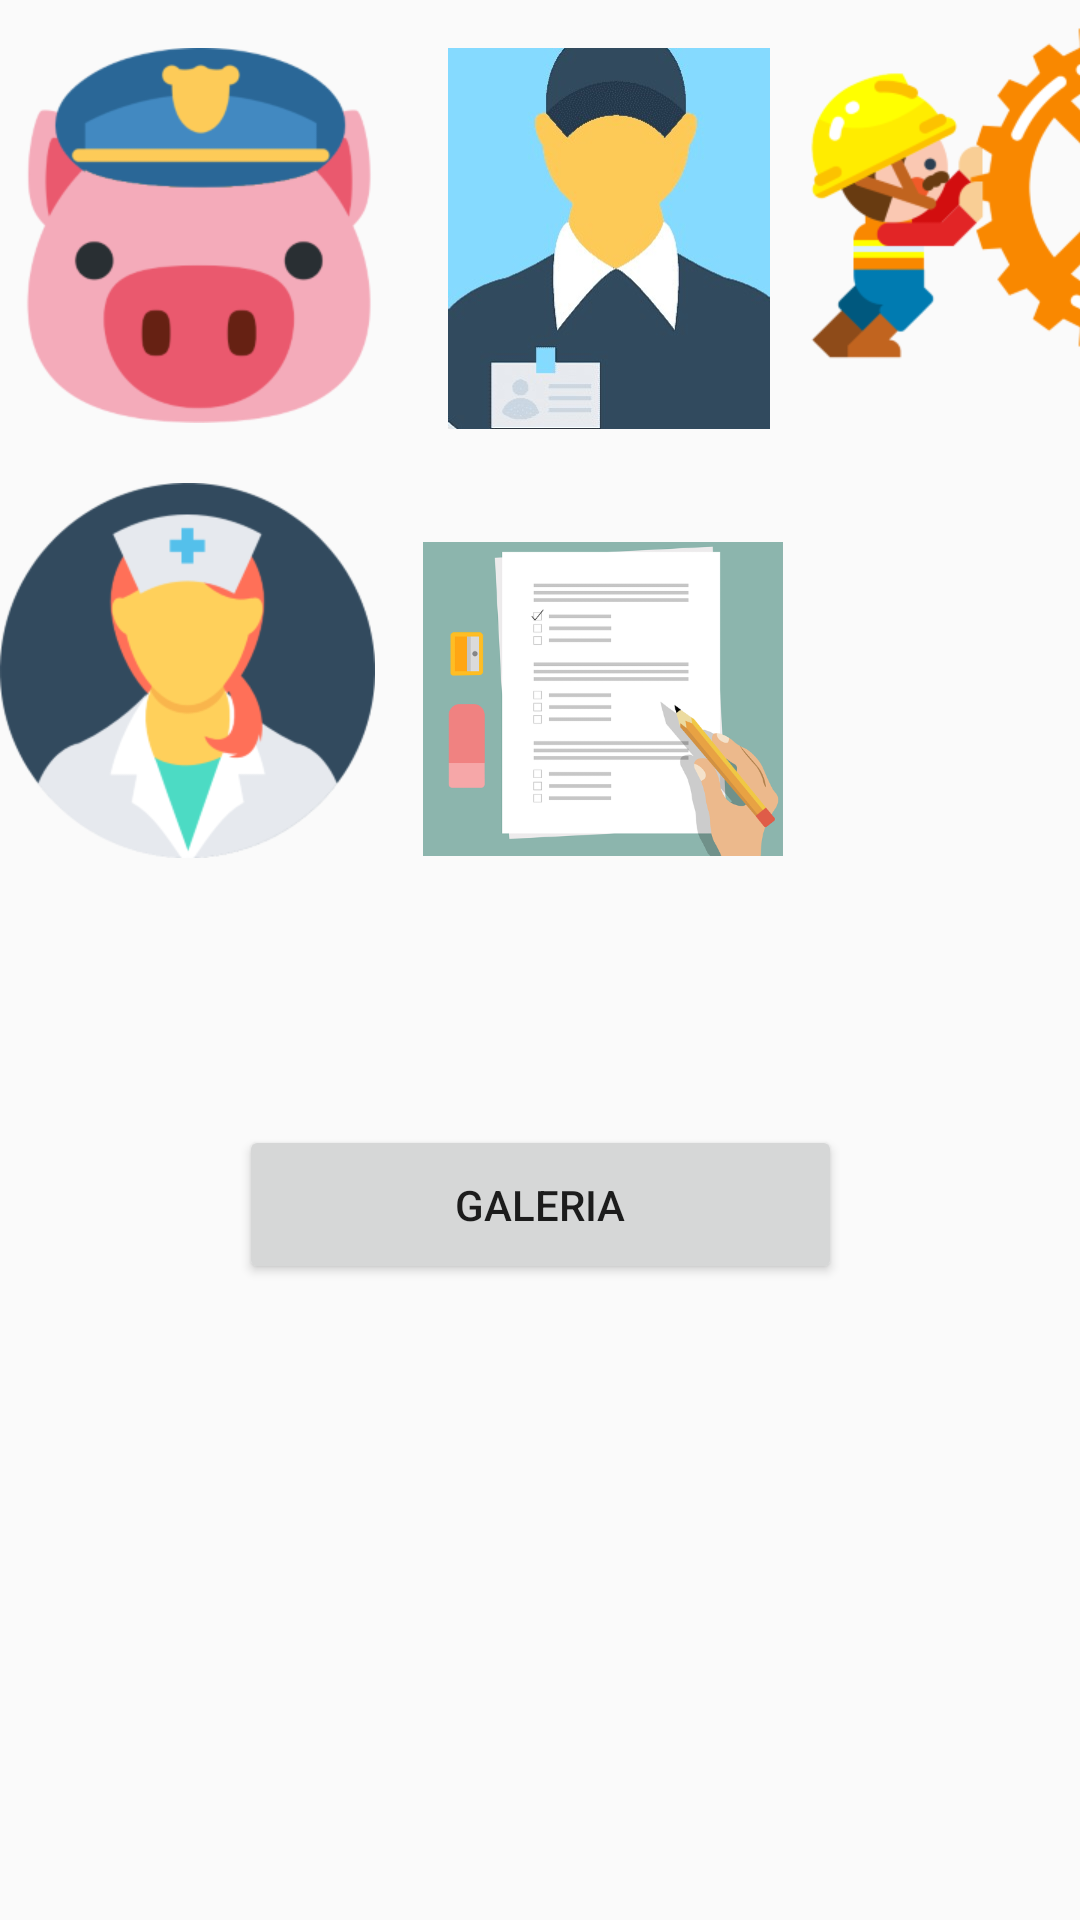

Screen size 1080px x 1920px. Icon name, then its box in pixels as box(x1, y1, x2, y2):
miniexamen: box(423, 542, 783, 856)
